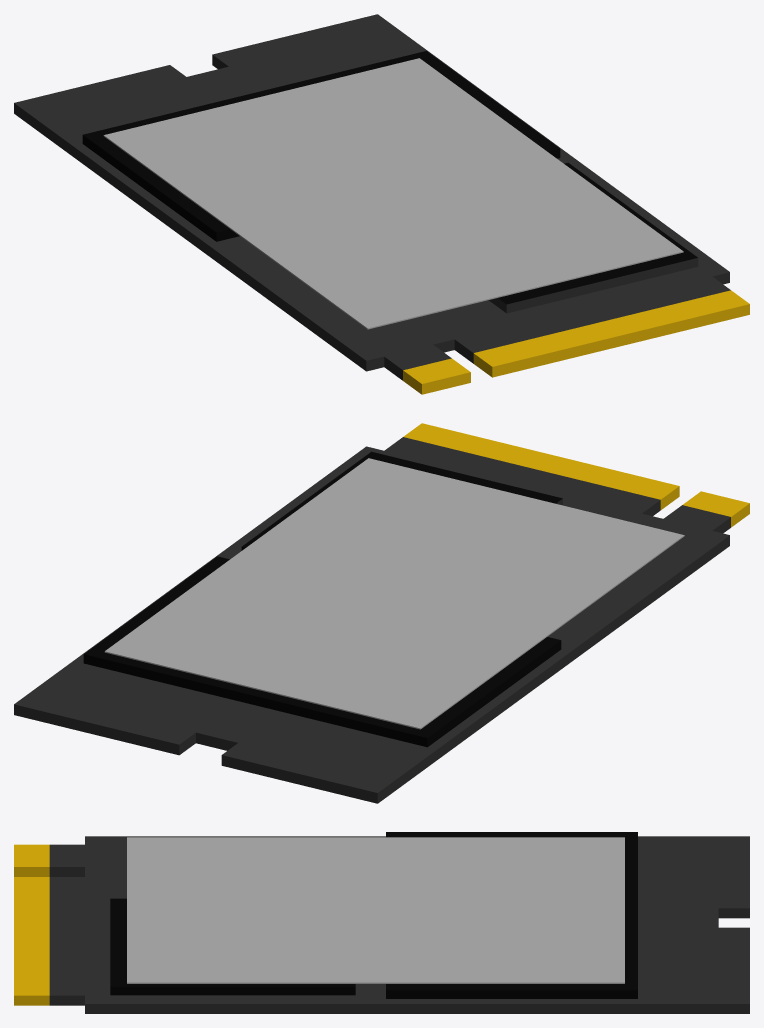
File: Laptop_SSD_Short.fbx
The picture shows the model from 3 angles, top to bottom: view 1: azimuth 30°, elevation 25°; view 2: azimuth 150°, elevation 25°; view 3: azimuth 270°, elevation 25°; orthographic projection. The views are drawn at different scales.
Visible parts, largest first — view 1: Laptop_SSD_2.001; view 2: Laptop_SSD_2.001; view 3: Laptop_SSD_2.001.
Boxes of the visible parts, <box> form: Laptop_SSD_2.001: <box>14,14,749,394</box>; Laptop_SSD_2.001: <box>14,423,749,803</box>; Laptop_SSD_2.001: <box>14,832,749,1013</box>.
Bounding box in the file's own units: 9.4 × 0.5234 × 17.46.
